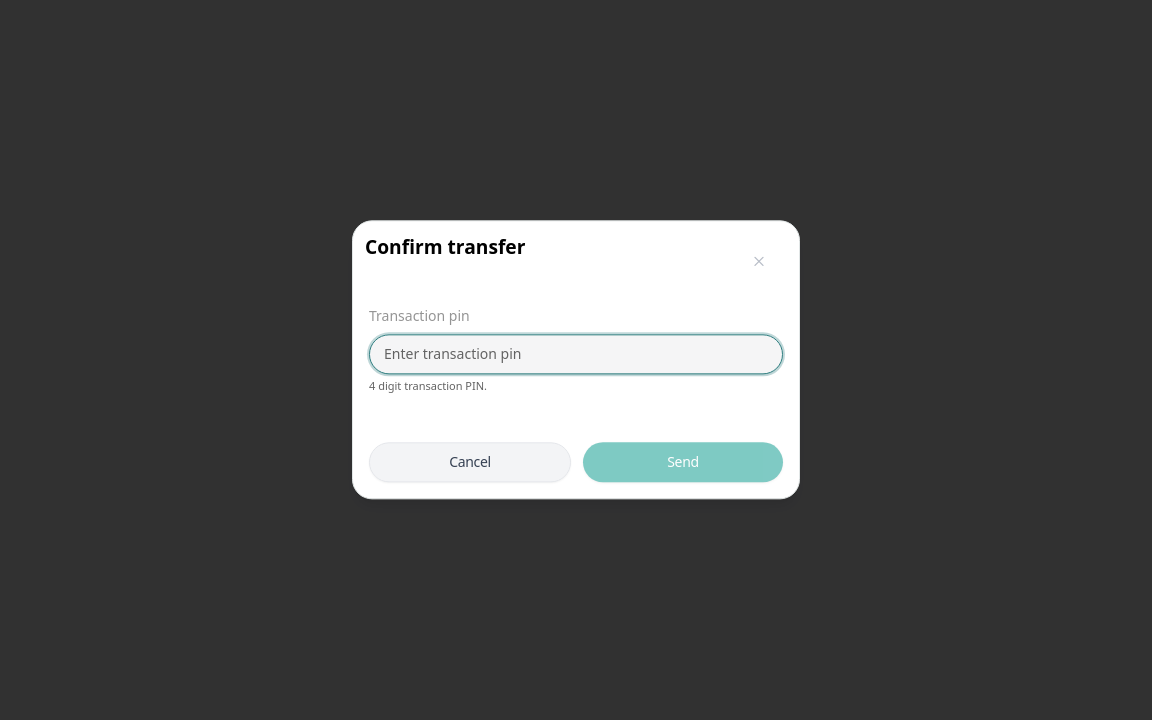
Test: TransactionPinModal › shows inline attempts-remaining error when the parent reports a PIN failure
In the password field with placeholder "Enter transaction pin": x=576, y=354 top-left (369, 334), bottom-right (783, 374), type "1234"
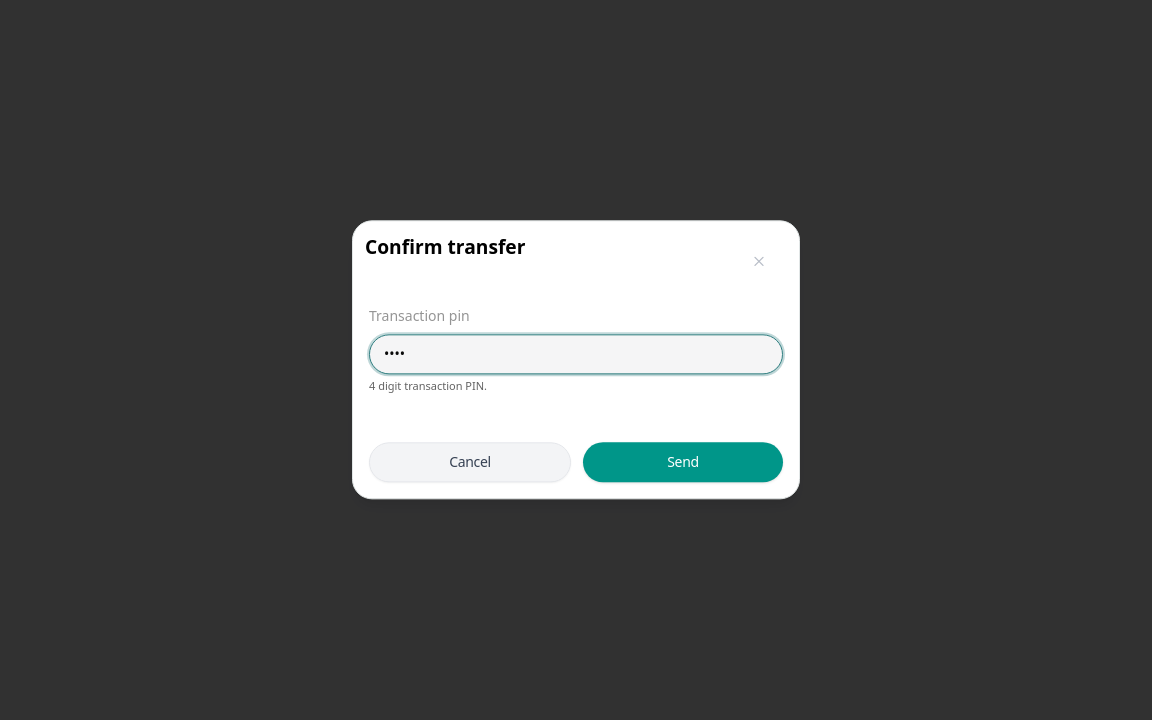
Click the button "Send": x=683, y=463 top-left (583, 443), bottom-right (783, 483)
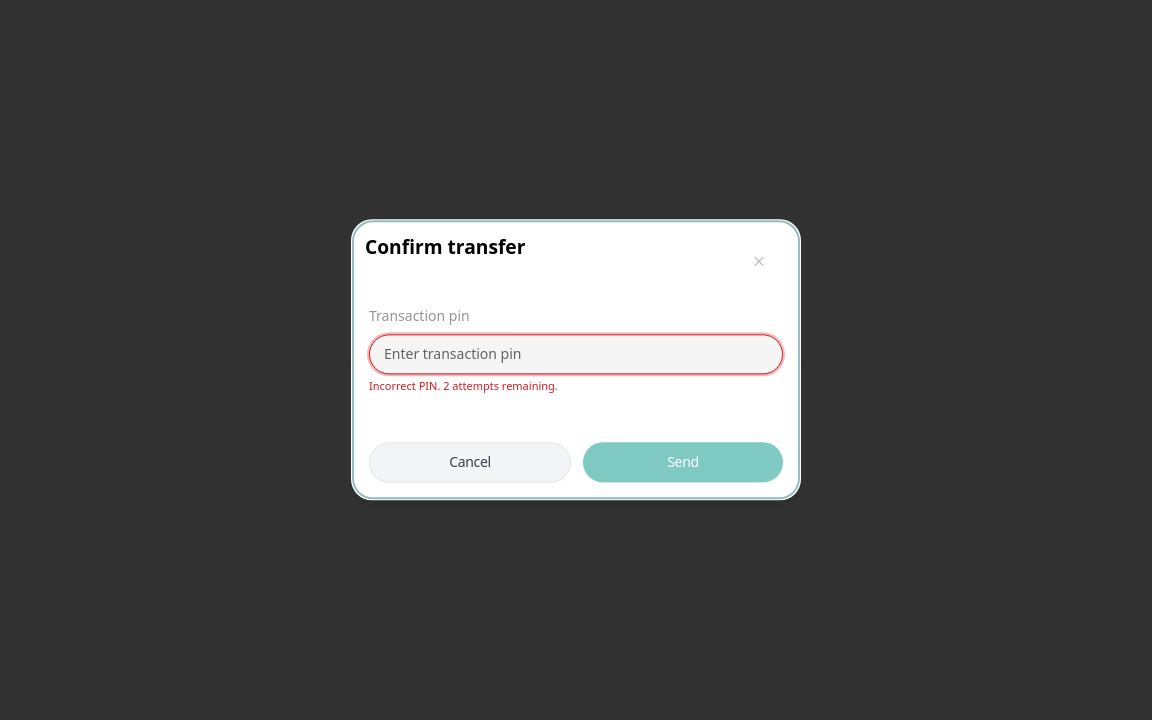
Now the message reads "Incorrect PIN. 2 attempts remaining.", box top-left (369, 378), bottom-right (558, 393)
